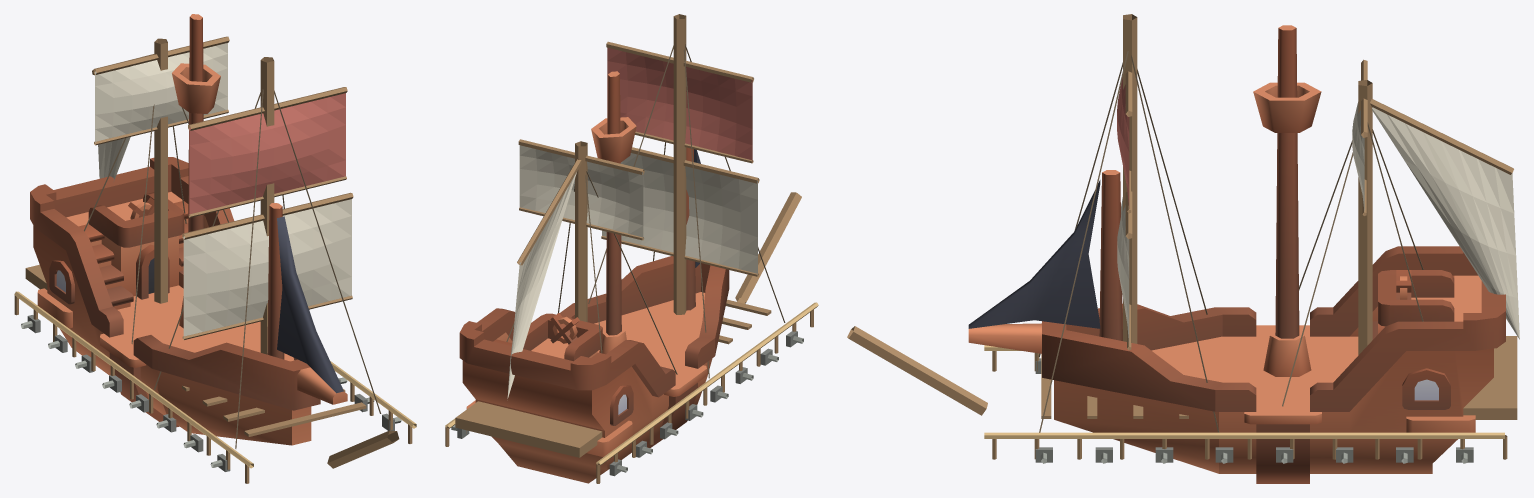
File: corvette-custom.glb
The picture shows the model from 3 angles, left to right: view 1: azimuth 30°, elevation 25°; view 2: azimuth 150°, elevation 25°; view 3: azimuth 270°, elevation 25°; orthographic projection. The views are drawn at different scales.
Parts seen in each view (by area): view 1: ship-pirate-small, corvette linen, corvette wood, corvette red, corvette gold, corvette rope, corvette dark, corvette metal; view 2: ship-pirate-small, corvette linen, corvette wood, corvette red, corvette rope, corvette gold, corvette dark, corvette metal; view 3: ship-pirate-small, corvette wood, corvette linen, corvette rope, corvette gold, corvette dark, corvette red.
Part boxes in pixels (bbox=[...]): ship-pirate-small: bbox=[30, 14, 347, 445]; corvette linen: bbox=[95, 43, 351, 337]; corvette wood: bbox=[14, 36, 412, 483]; corvette red: bbox=[189, 93, 345, 215]; corvette gold: bbox=[14, 291, 416, 468]; corvette rope: bbox=[84, 89, 381, 448]; corvette dark: bbox=[27, 315, 394, 471]; corvette metal: bbox=[21, 321, 401, 467]; ship-pirate-small: bbox=[459, 71, 729, 483]; corvette linen: bbox=[507, 145, 757, 398]; corvette wood: bbox=[445, 14, 813, 483]; corvette red: bbox=[607, 47, 752, 161]; corvette rope: bbox=[506, 44, 785, 378]; corvette gold: bbox=[445, 302, 818, 465]; corvette dark: bbox=[457, 331, 797, 476]; corvette metal: bbox=[451, 336, 803, 472]; ship-pirate-small: bbox=[968, 25, 1505, 483]; corvette wood: bbox=[847, 14, 1517, 459]; corvette linen: bbox=[1117, 102, 1519, 345]; corvette rope: bbox=[1038, 51, 1423, 432]; corvette gold: bbox=[984, 345, 1504, 438]; corvette dark: bbox=[1035, 358, 1473, 462]; corvette red: bbox=[1117, 77, 1129, 208].
Size of the model in its own units: 4.81 by 9.8 by 13.44.
8 materials, 1 textured.
